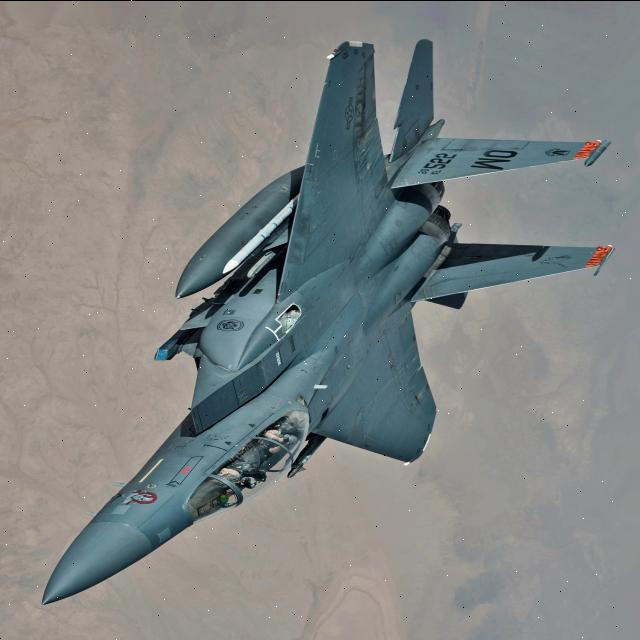F15: (3, 19, 617, 613)
